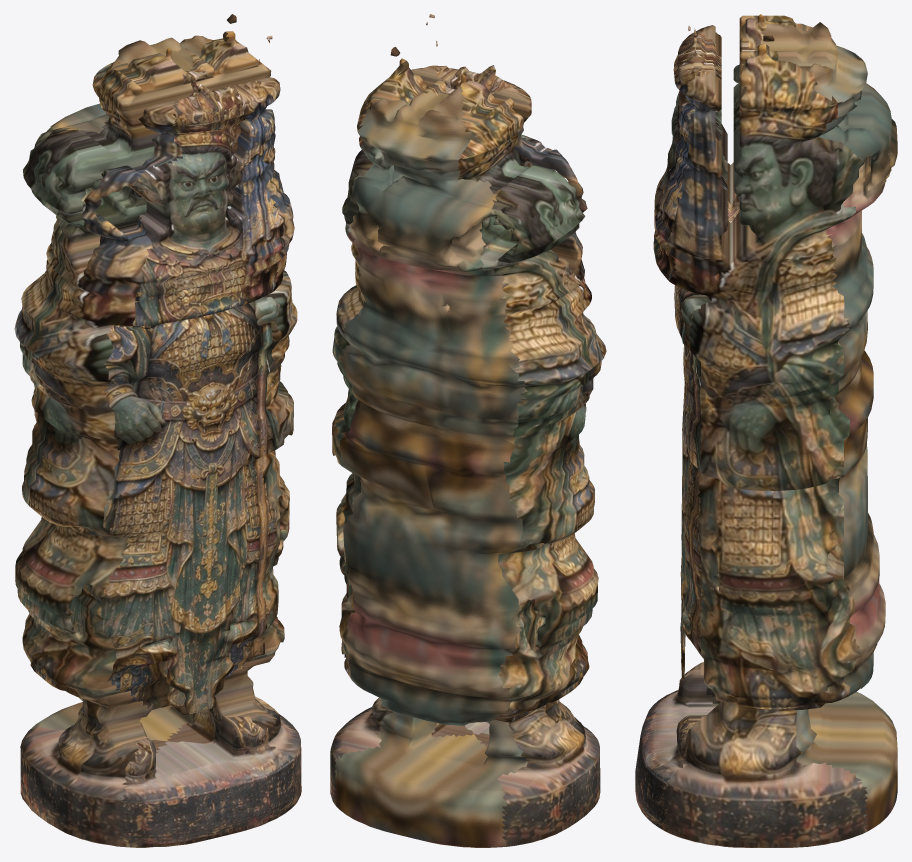
Rendered from north-king.glb.
3 views of the same model, side by side, from view 1: azimuth 30°, elevation 25°; view 2: azimuth 150°, elevation 25°; view 3: azimuth 270°, elevation 25° (orthographic). The views are drawn at different scales.
Parts seen in each view (by area): view 1: north-king; view 2: north-king; view 3: north-king.
Boxes of the visible parts, x1,y1,x2,y2 form: north-king: (14,14,301,847); north-king: (330,14,606,847); north-king: (635,14,897,847).
Bounding box in the file's own units: 0.3511 × 1 × 0.2973.
1 material, 1 textured.
